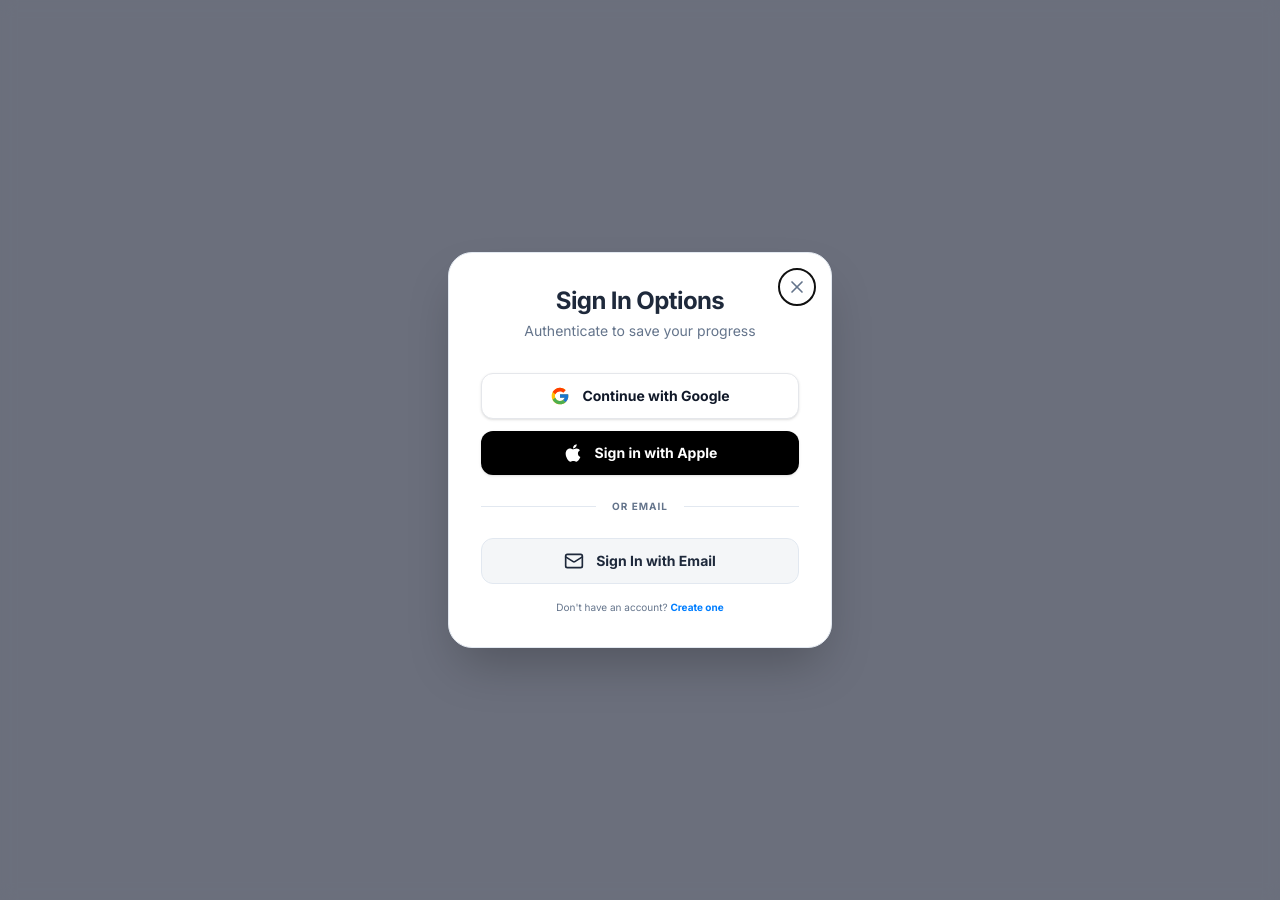
Test: SignInModal › Google sign-in › shows an error message when Google sign-in fails with a general error
Click the button "Continue with Google" at (640,396), box [481,373,799,419]
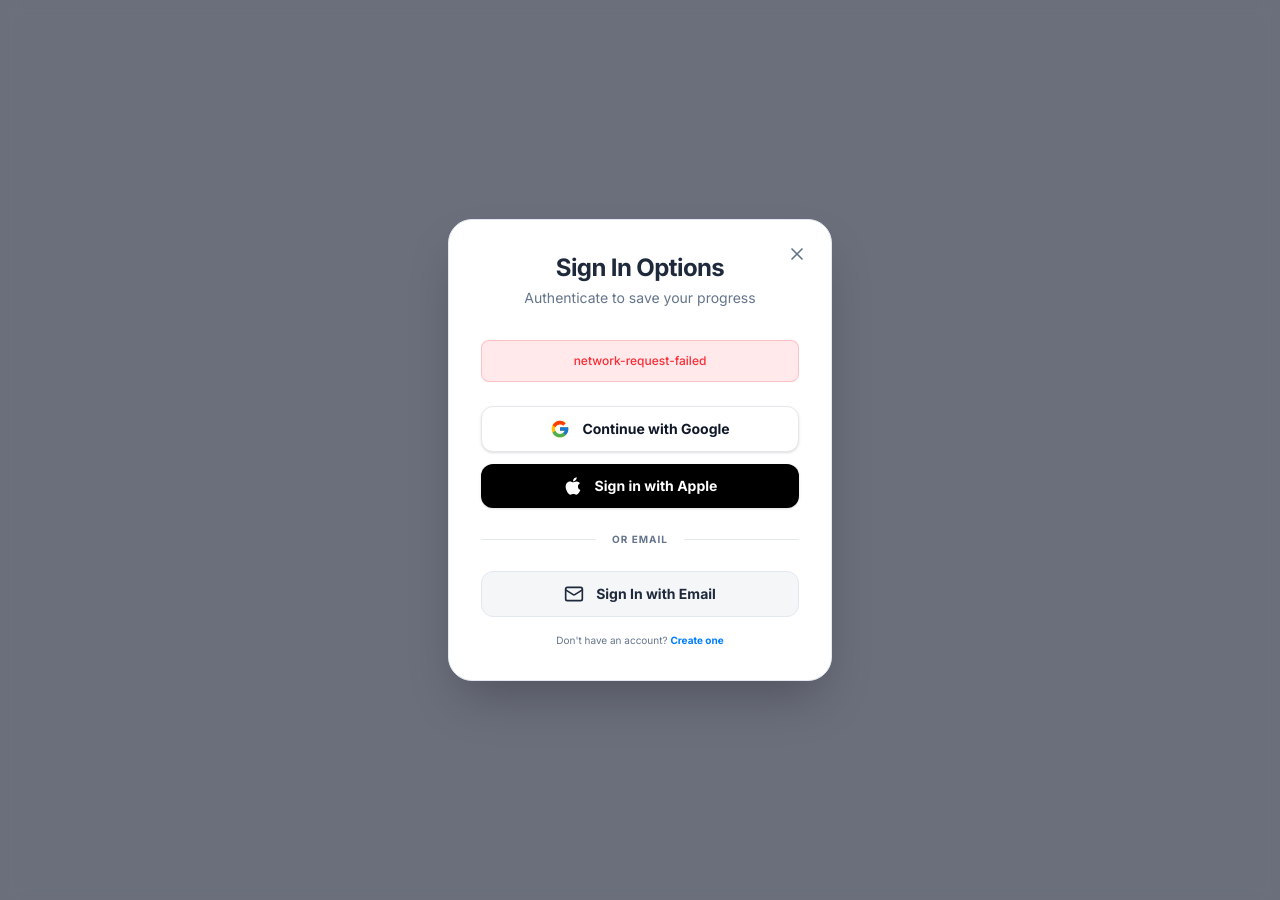
Result: the text "network-request-failed" is shown at [481,340,799,382]
